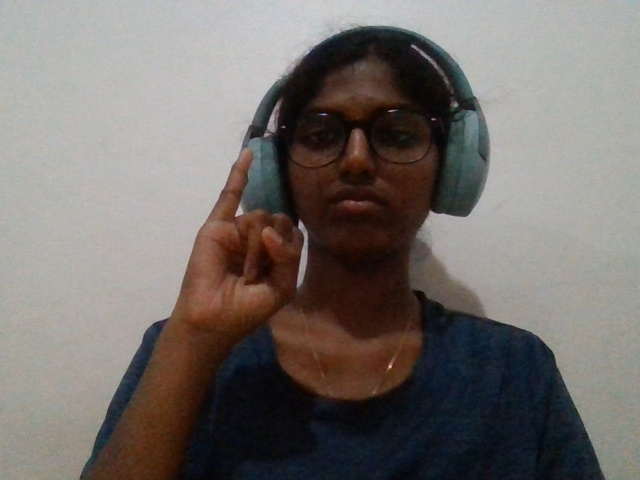I: (156, 126, 332, 417)
